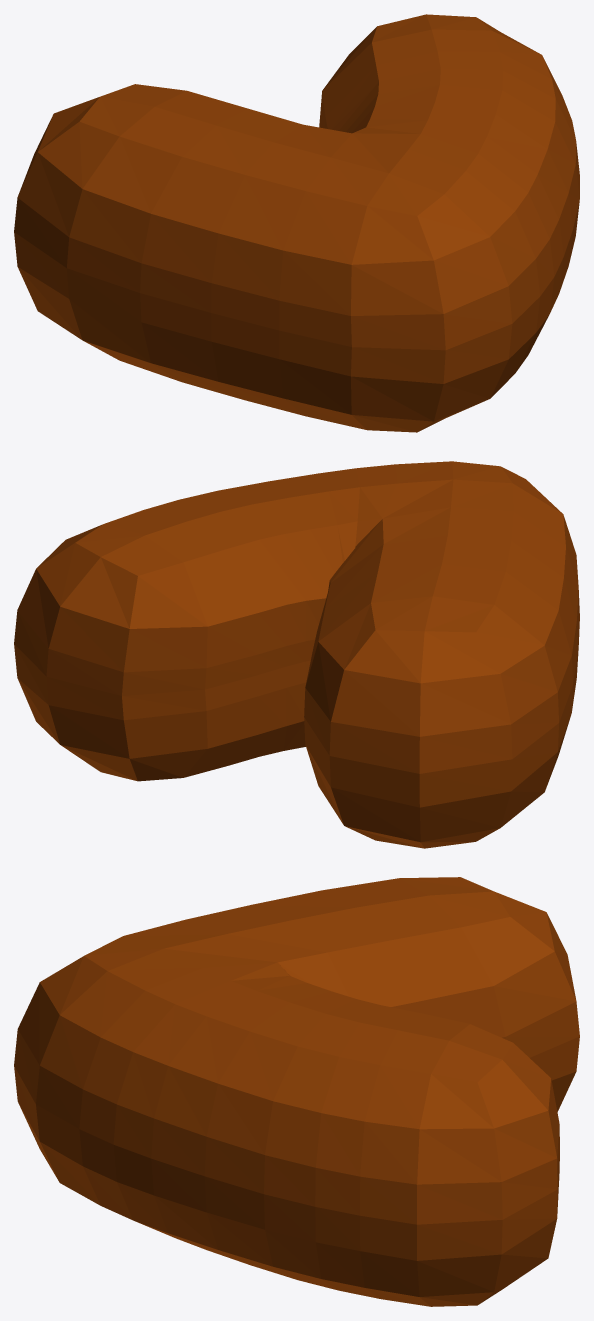
The picture shows the model from 3 angles, top to bottom: view 1: azimuth 30°, elevation 25°; view 2: azimuth 150°, elevation 25°; view 3: azimuth 270°, elevation 25°; orthographic projection. The views are drawn at different scales.
Size of the model in its own units: 0.9577 by 0.427 by 0.8752.
